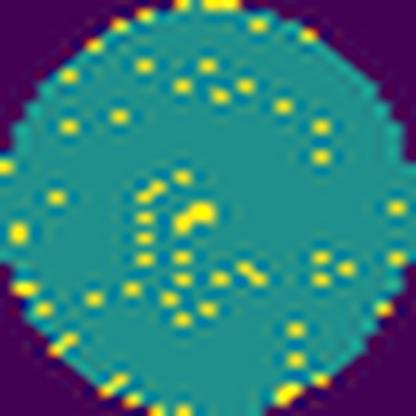Center: (174, 194, 218, 242)
